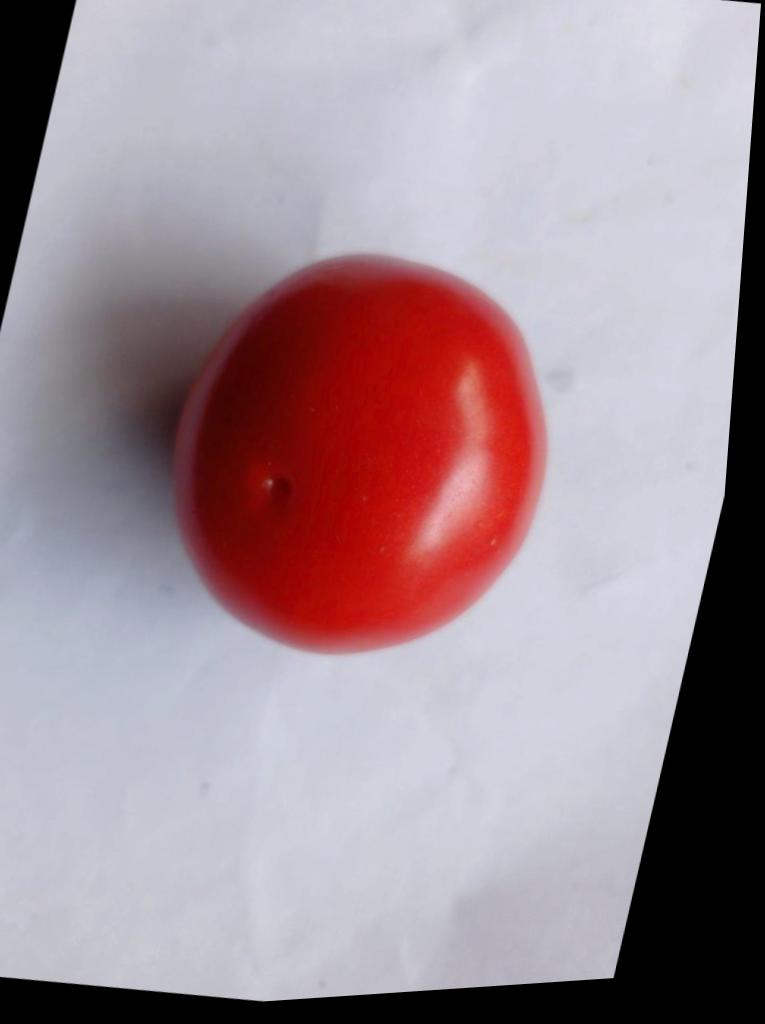tomato: (174, 258, 544, 652)
